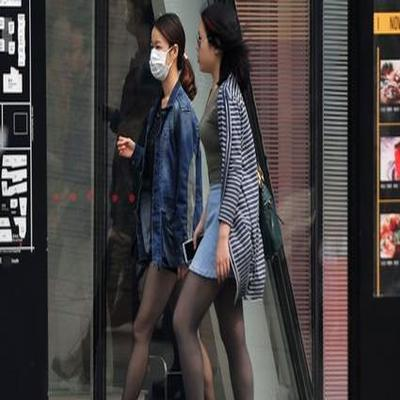Face_Mask_Found: (145, 41, 177, 83)
Face_Mask_Not_Found: (193, 41, 221, 73)
